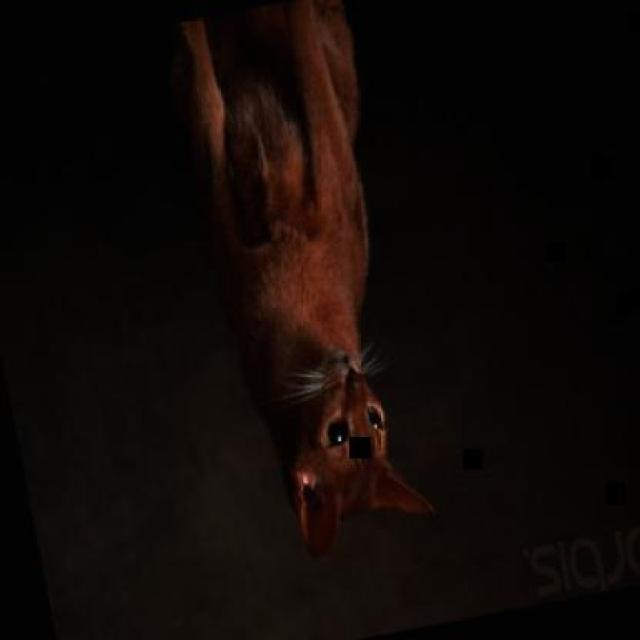cat: (137, 0, 451, 578)
